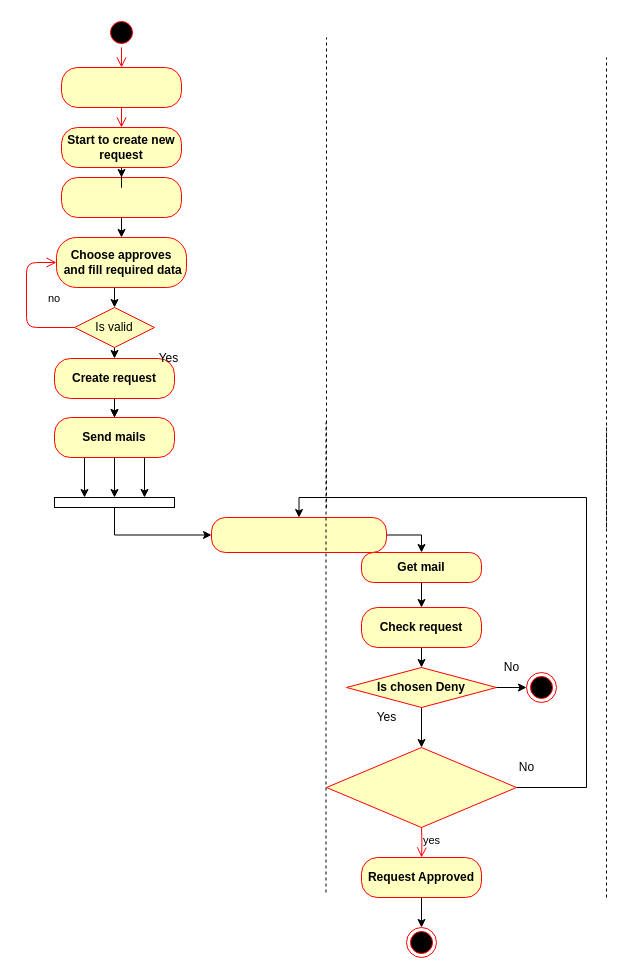
Some shapes in this 625 by 975 pixel diagram are drawn without their labels. Each missing label, with the centre of its shape:
"Check if approvals are enough for request" belongs at (421,787).
"Get policies" belongs at (121,197).
"Login" belongs at (121,87).
"Request awiting approve" belongs at (298,534).
